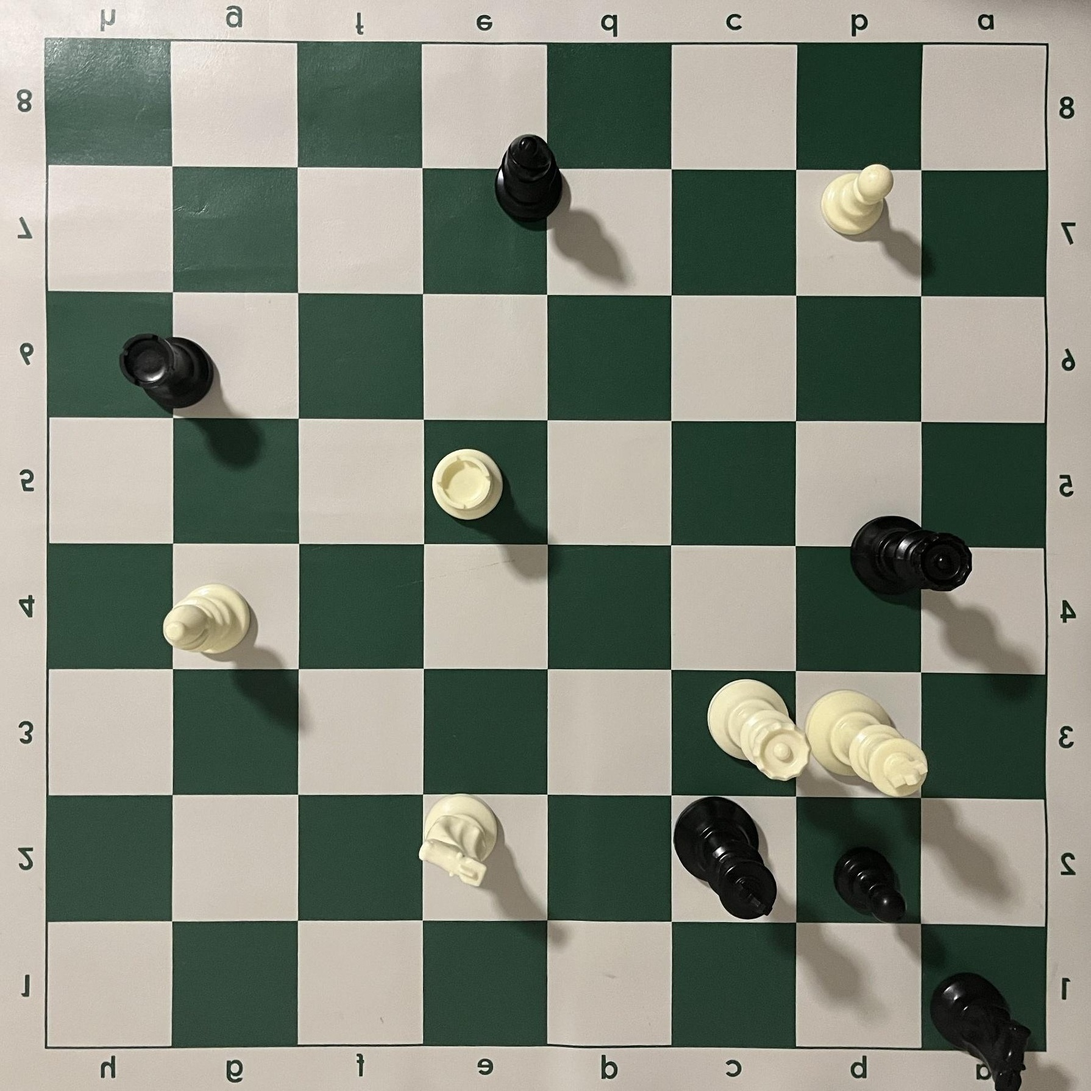black_bishop: (494, 133, 563, 225)
black_king: (673, 795, 777, 920)
black_knight: (929, 972, 1031, 1090)
black_pawn: (833, 845, 906, 924)
black_queen: (849, 516, 975, 597)
black_rook: (119, 333, 215, 410)
white_bishop: (162, 583, 252, 657)
white_king: (805, 690, 928, 798)
white_knight: (419, 793, 500, 889)
white_pawn: (820, 163, 895, 237)
white_queen: (705, 678, 812, 784)
white_rook: (432, 448, 503, 521)
